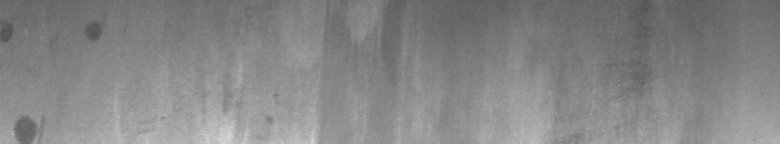fi: (4, 20, 103, 136)
